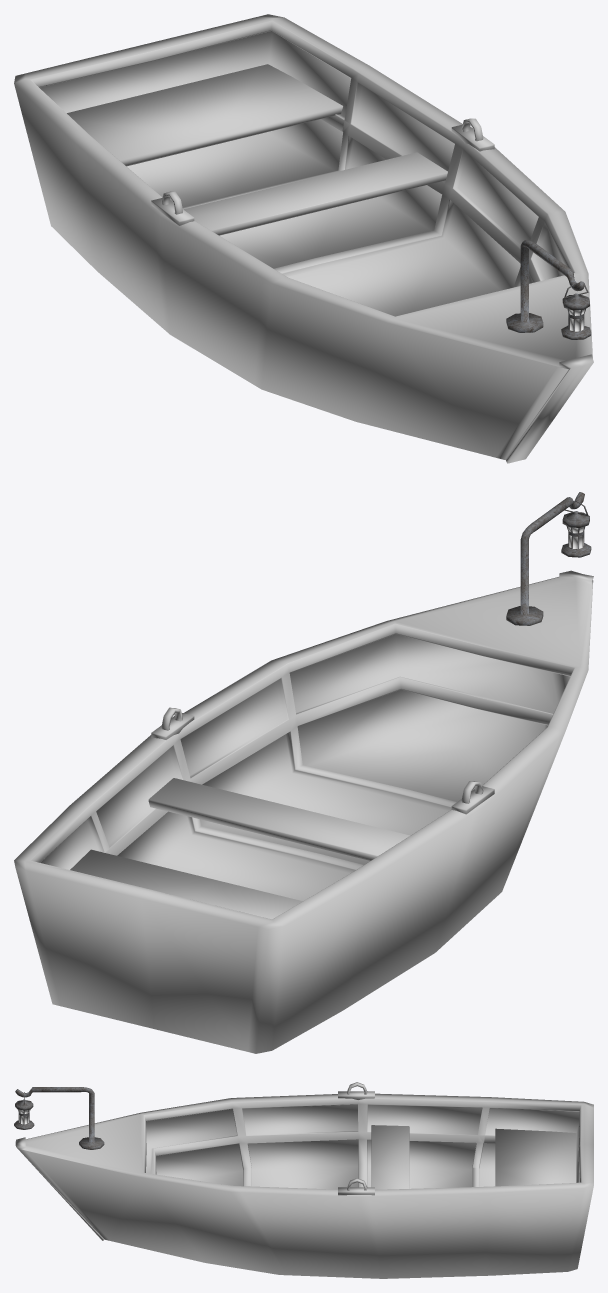
The model's file is boat.fbx.
The picture shows the model from 3 angles, top to bottom: view 1: azimuth 30°, elevation 25°; view 2: azimuth 150°, elevation 25°; view 3: azimuth 270°, elevation 25°; orthographic projection. The views are drawn at different scales.
Visible parts, largest first — view 1: Cube; view 2: Cube; view 3: Cube.
Part boxes in pixels (left/top/right/bottom): Cube: left=14, top=14, right=593, bottom=463; Cube: left=14, top=492, right=593, bottom=1053; Cube: left=14, top=1082, right=593, bottom=1278.
Size of the model in its own units: 240 by 163 by 567.
